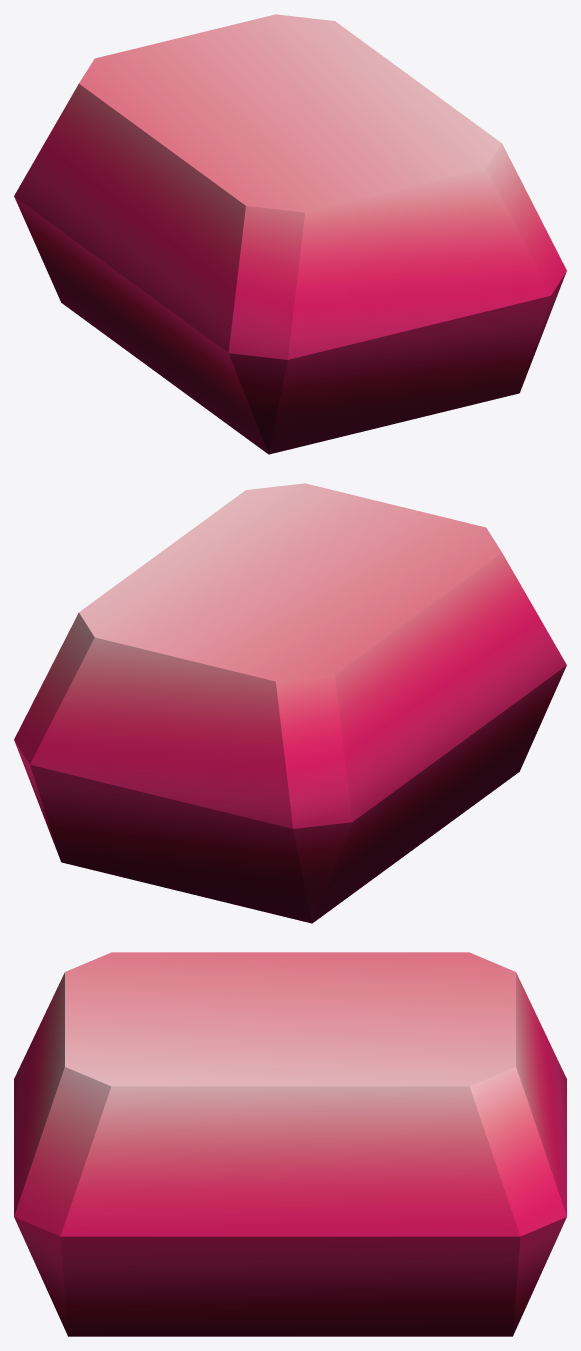
The model's file is Gem_RubyRed.fbx.
3 renders of one model, top to bottom at view 1: azimuth 30°, elevation 25°; view 2: azimuth 150°, elevation 25°; view 3: azimuth 270°, elevation 25°, orthographic. The views are drawn at different scales.
Parts seen in each view (by area): view 1: Gem_RubyRed; view 2: Gem_RubyRed; view 3: Gem_RubyRed.
Part boxes in pixels (bbox=[...]): Gem_RubyRed: bbox=[14, 14, 566, 454]; Gem_RubyRed: bbox=[14, 483, 566, 923]; Gem_RubyRed: bbox=[14, 952, 566, 1336].
Bounding box in the file's own units: 6.2 × 8.18 × 4.11.
1 material, 1 textured.
